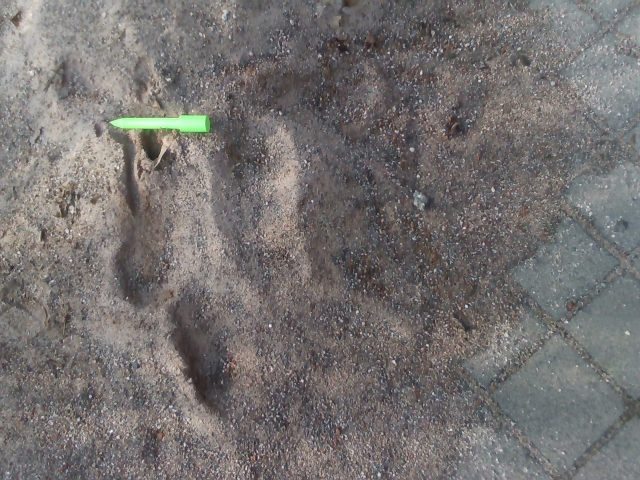Probe: (94, 103, 224, 139)
